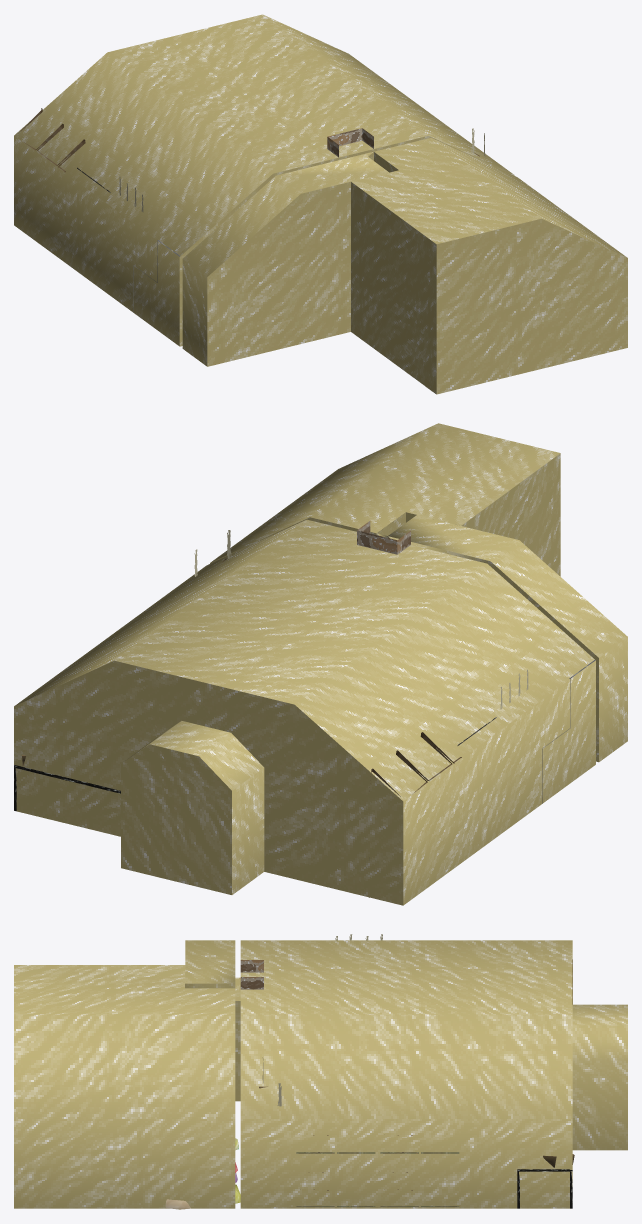
Rendered from fox_roomfoxs1.dae.
3 views of the same model, one above another, from view 1: azimuth 30°, elevation 25°; view 2: azimuth 150°, elevation 25°; view 3: azimuth 270°, elevation 25° (orthographic). The views are drawn at different scales.
Parts seen in each view (by area): view 1: tct_001; view 2: tct_001; view 3: tct_001.
Boxes of the visible parts, bbox=[...] form: tct_001: bbox=[14, 14, 627, 394]; tct_001: bbox=[14, 423, 627, 905]; tct_001: bbox=[14, 934, 627, 1209].
Bounding box in the file's own units: 7.07 × 11.1 × 3.3.
Materials: 20 (13 with a texture image).
